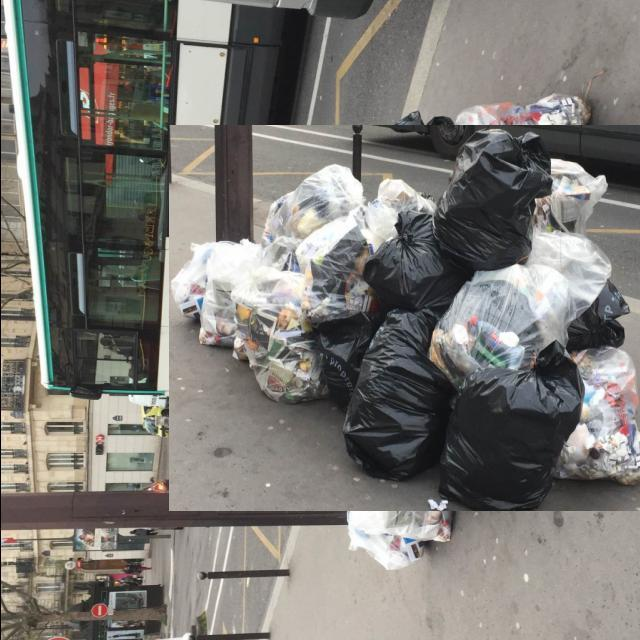Trashbag: (455, 355, 565, 507), (350, 319, 442, 491), (448, 129, 544, 263), (348, 224, 478, 321), (312, 324, 358, 400)
